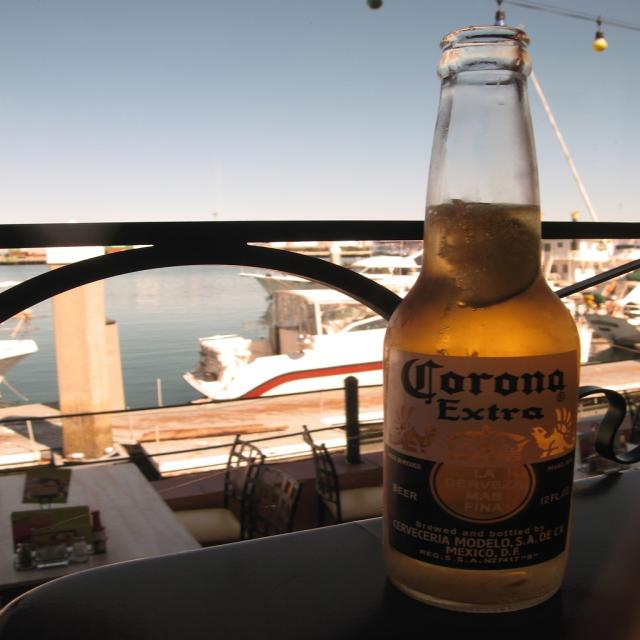corona: (386, 349, 582, 572)
